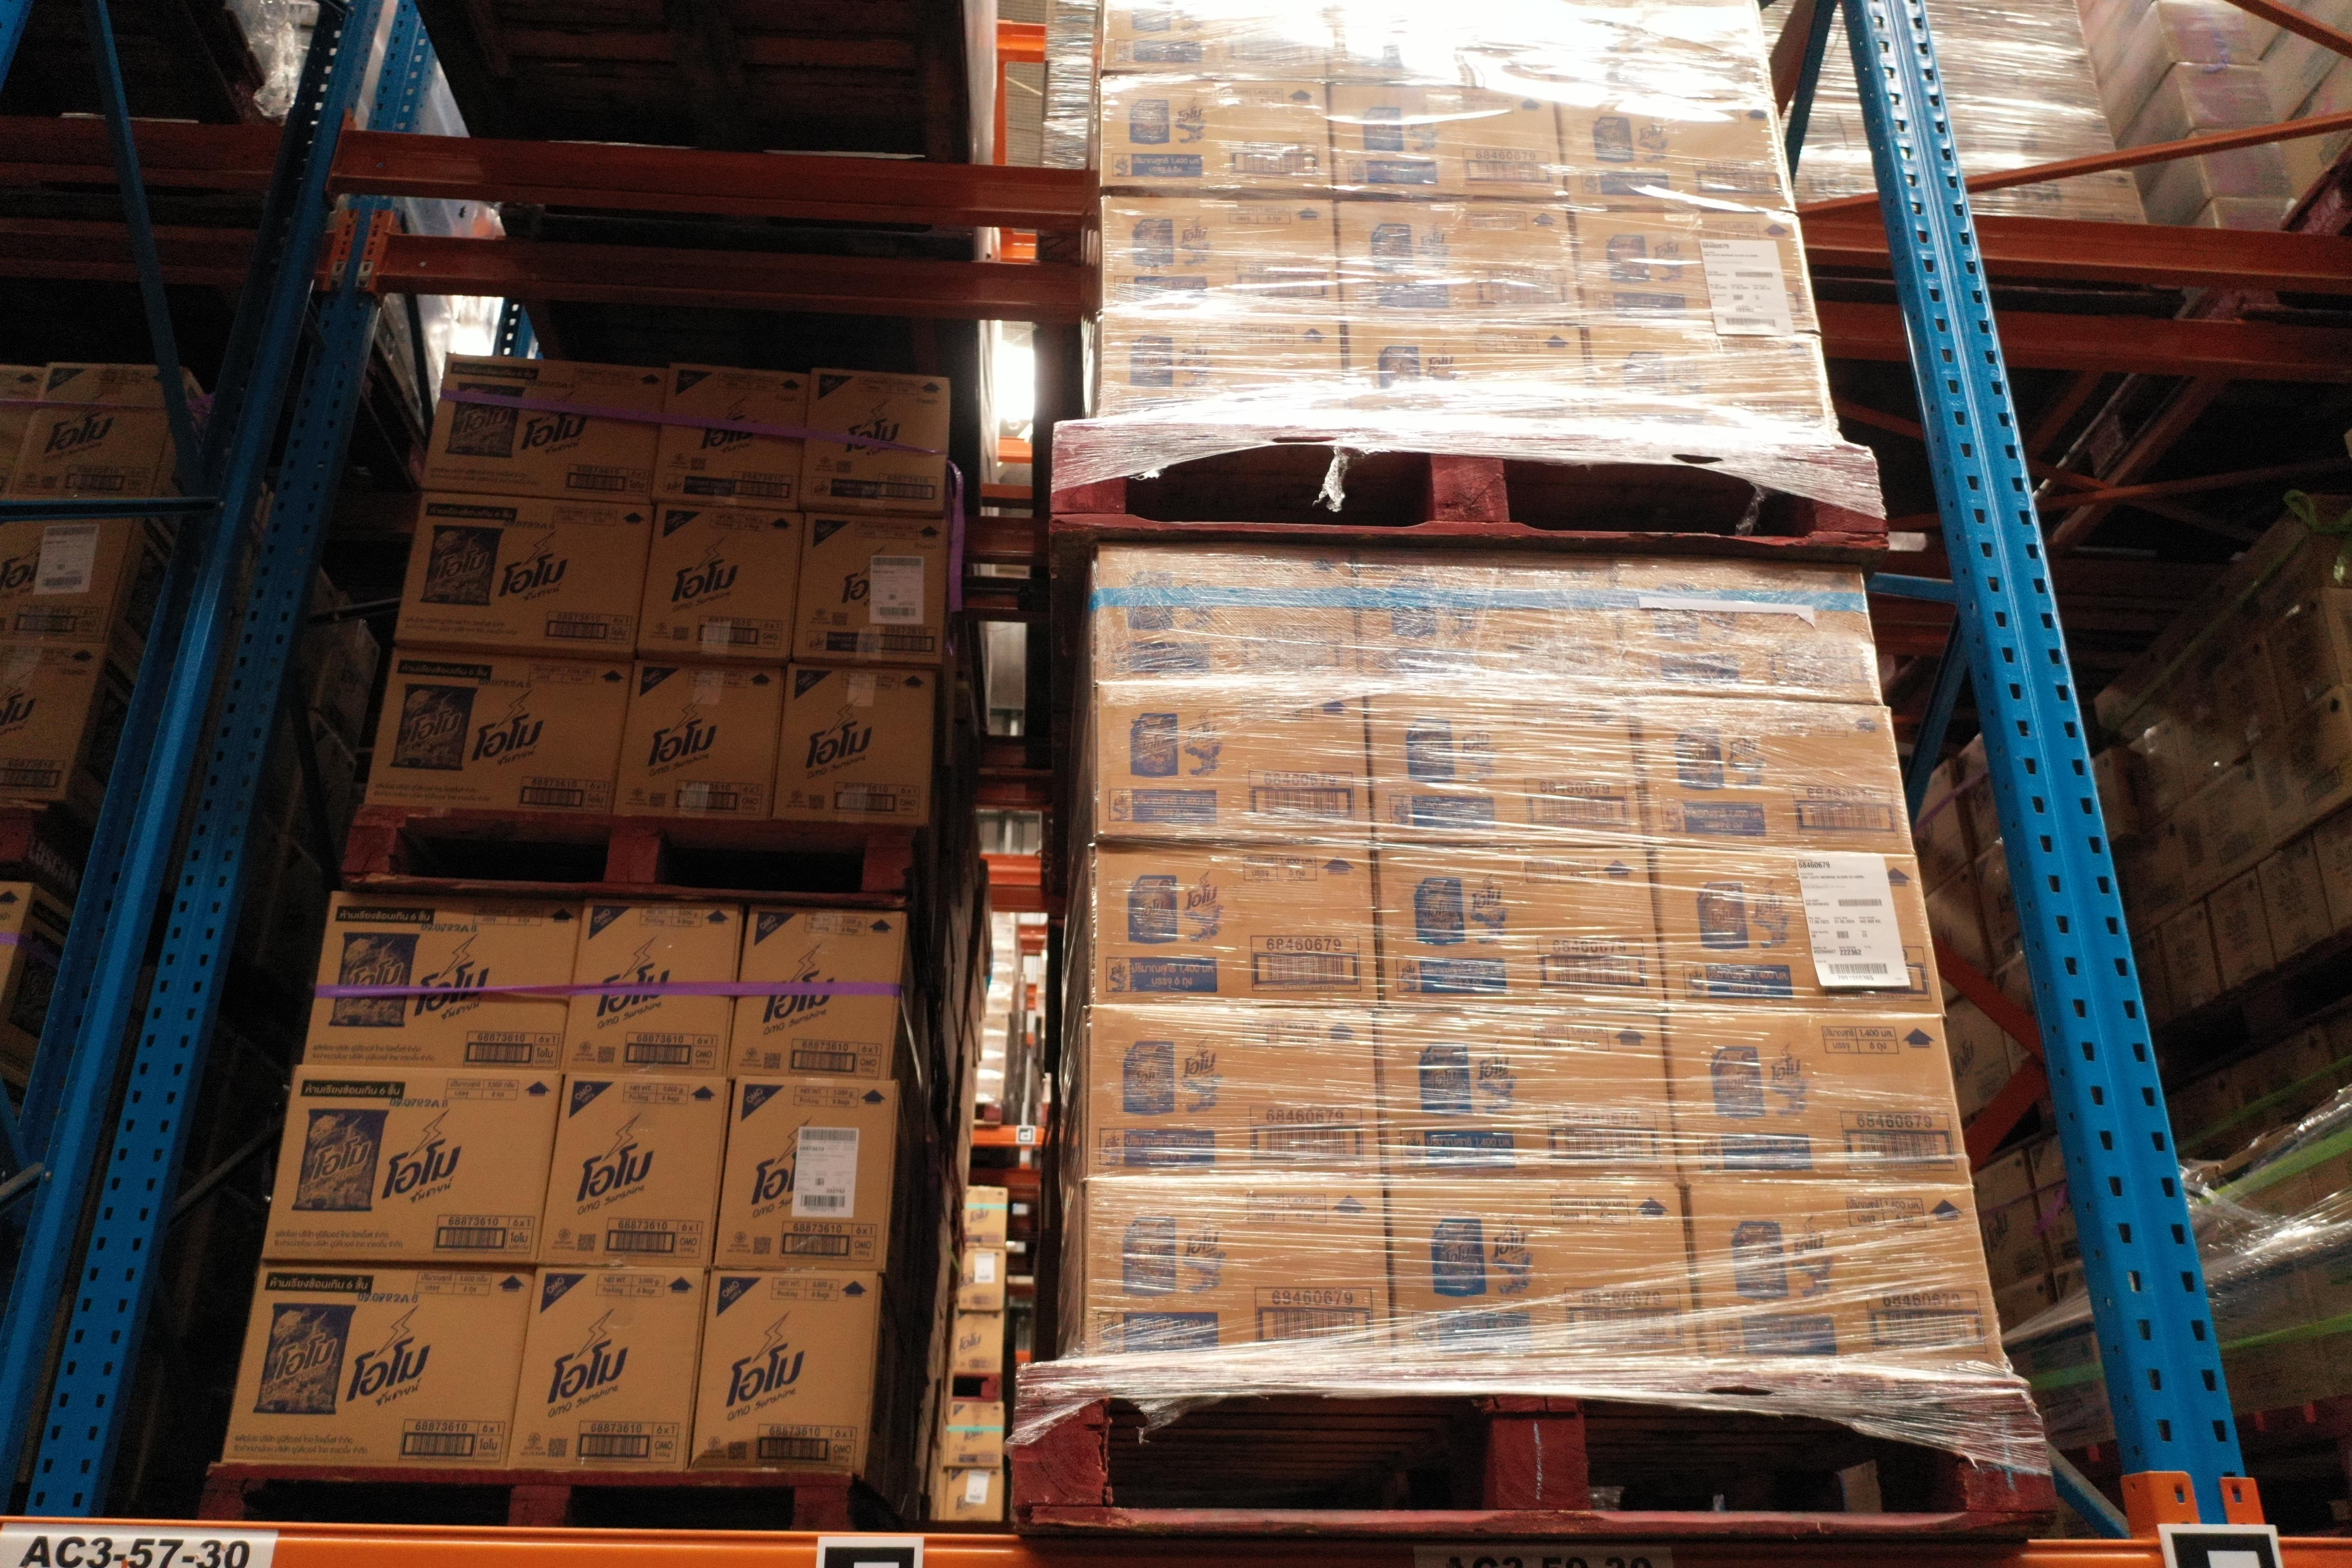-: (1683, 1176, 2008, 1378), (1080, 1176, 1394, 1376), (1383, 1172, 1697, 1369), (1659, 1001, 1973, 1187), (1086, 1001, 1381, 1179), (1374, 1007, 1677, 1178), (1651, 845, 1942, 1016), (1372, 839, 1664, 1008), (1091, 842, 1380, 1011), (1628, 689, 1916, 854), (1095, 680, 1376, 845), (1363, 687, 1644, 845), (1609, 558, 1886, 700), (1352, 553, 1631, 692), (1093, 548, 1361, 687), (1571, 206, 1822, 336), (1099, 193, 1345, 323), (1335, 195, 1573, 329), (1585, 322, 1841, 443), (1556, 86, 1798, 213), (1328, 79, 1569, 204), (1099, 72, 1334, 196), (1343, 320, 1595, 434), (1099, 318, 1345, 432), (1330, 0, 1554, 88)
box: (252, 1066, 568, 1273), (217, 1264, 535, 1470), (300, 884, 586, 1075), (366, 641, 638, 819), (392, 489, 654, 663), (504, 1264, 707, 1477), (533, 1067, 728, 1275), (691, 1266, 880, 1479), (715, 1073, 895, 1279), (419, 355, 673, 498), (726, 900, 912, 1093), (564, 894, 746, 1075), (610, 649, 794, 823), (632, 496, 807, 665), (774, 656, 935, 832), (0, 494, 163, 653), (9, 361, 189, 494), (652, 364, 816, 509), (804, 370, 959, 520), (799, 509, 944, 667), (0, 637, 109, 808)
